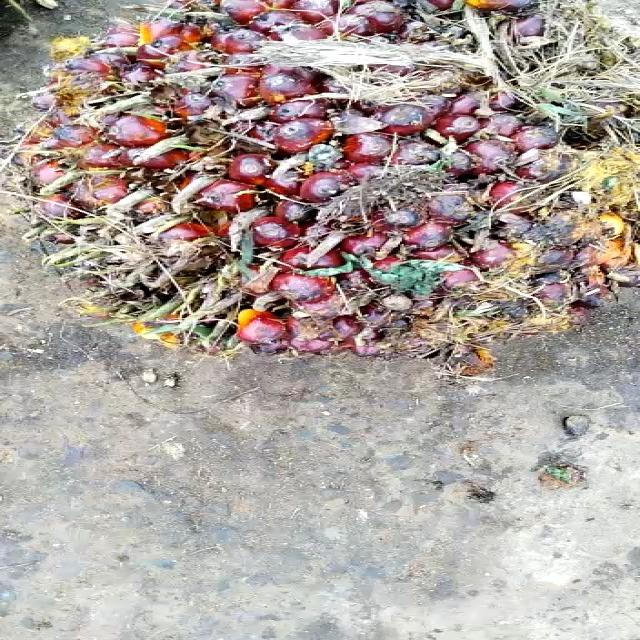palm oil: (8, 0, 640, 367)
